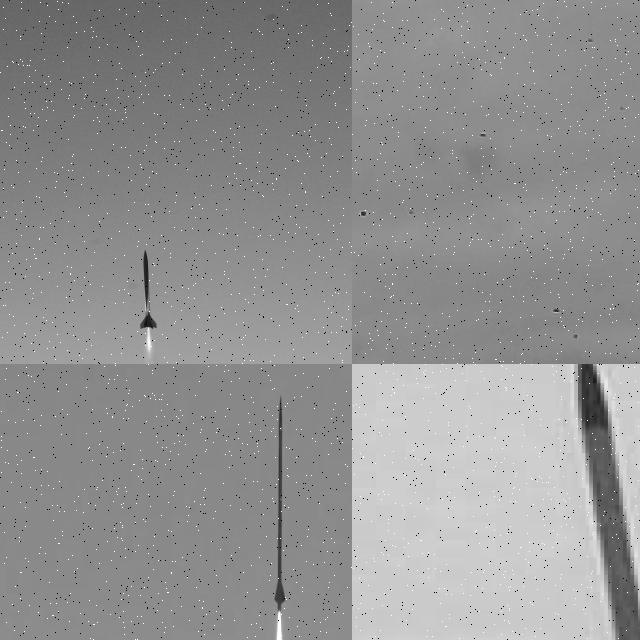Rocket: (555, 364, 640, 640), (275, 397, 286, 619), (140, 250, 158, 330)
